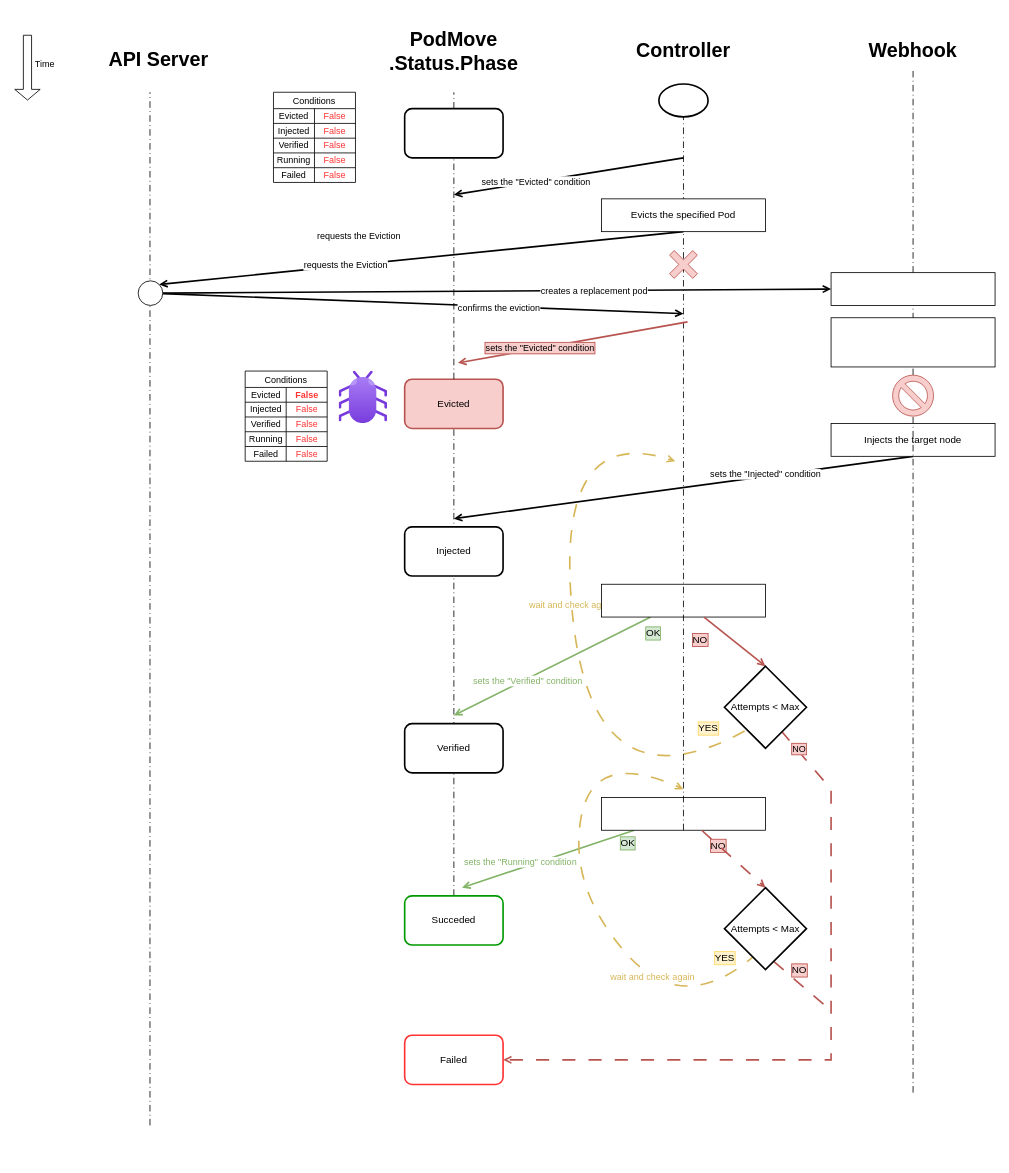
This 1009x1173 diagram has some shape labels left out. The shapes that lost their labels are listed below. From the top down, each one's box as (x1, y1, x2, y2) in pixels, then its label:
(403, 107, 503, 158): Pending
(659, 240, 707, 288): crash
(830, 272, 995, 305): Receives a Pod Create request
(830, 317, 995, 367): Looks for a "Evicted" PodMove for the pod controller owner
(601, 583, 765, 617): Verifies the replacement pod persisted on the target Node
(601, 797, 765, 830): Verifies the replacement pod status on the target Node is "Running"
